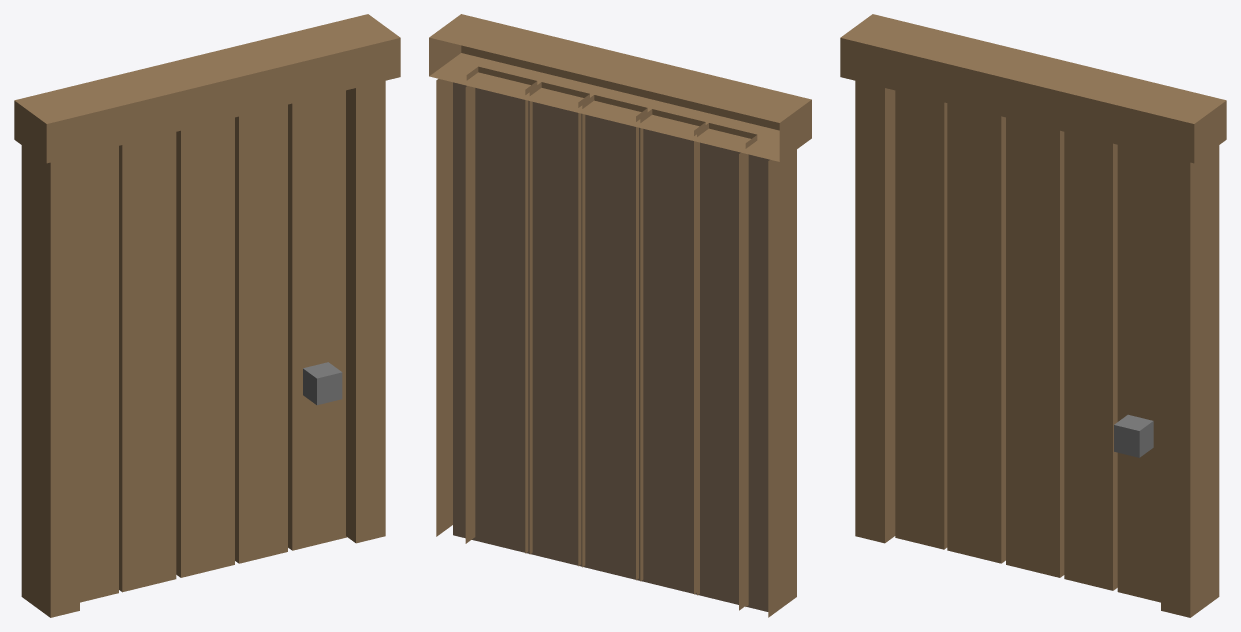
File: House_Door.fbx
3 renders of one model, left to right at view 1: azimuth 30°, elevation 25°; view 2: azimuth 150°, elevation 25°; view 3: azimuth 330°, elevation 25°, orthographic.
Visible parts, largest first — view 1: House_Door; view 2: House_Door; view 3: House_Door.
Boxes of the visible parts, x1=… form: House_Door: x1=14, y1=14, x2=400, y2=617; House_Door: x1=429, y1=14, x2=811, y2=617; House_Door: x1=840, y1=14, x2=1226, y2=617.
Size of the model in its own units: 41.53 by 56.52 by 7.03.
